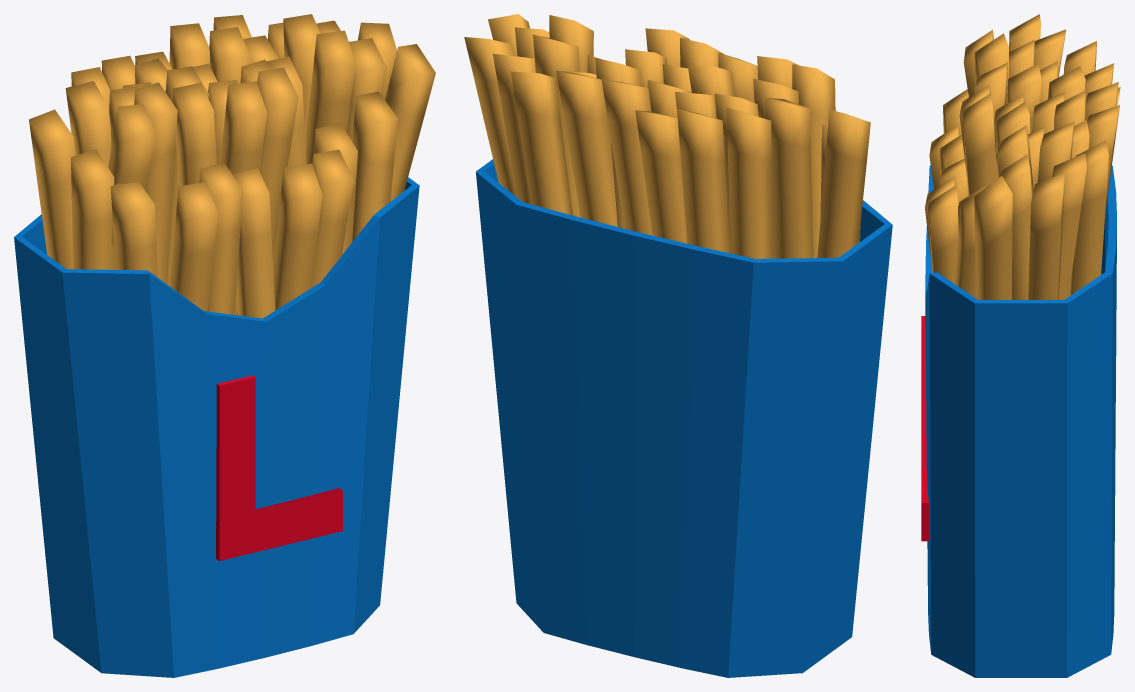
File: Fries.fbx
The picture shows the model from 3 angles, left to right: view 1: azimuth 30°, elevation 25°; view 2: azimuth 150°, elevation 25°; view 3: azimuth 270°, elevation 25°; orthographic projection. The views are drawn at different scales.
Visible parts, largest first — view 1: french fries base, french fries, Fries_L; view 2: french fries base, french fries; view 3: french fries base, french fries, Fries_L.
Boxes of the visible parts, <box> form: french fries base: <box>14,177,419,677</box>; french fries: <box>29,14,435,318</box>; Fries_L: <box>216,375,342,560</box>; french fries base: <box>476,159,892,677</box>; french fries: <box>464,14,870,258</box>; french fries base: <box>925,165,1116,677</box>; french fries: <box>925,14,1120,299</box>; Fries_L: <box>921,316,929,541</box>.
Bounding box in the file's own units: 54.86 × 77.7 × 26.12.
